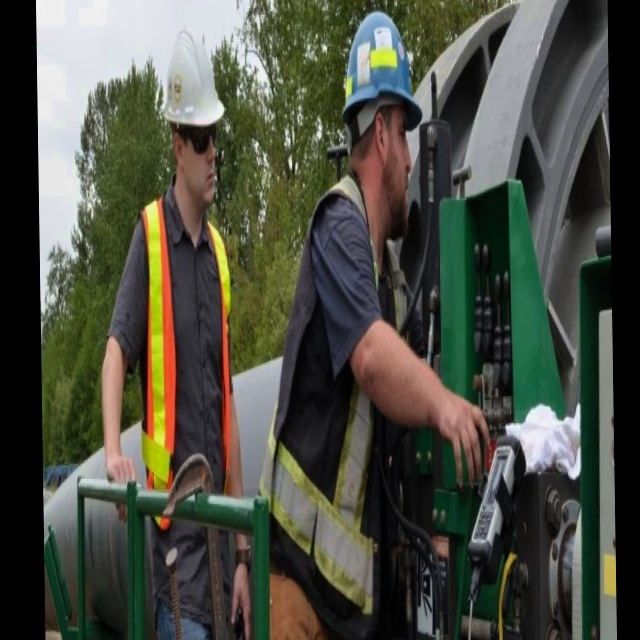Con_Chaleco: (266, 175, 394, 613), (137, 185, 236, 500)
